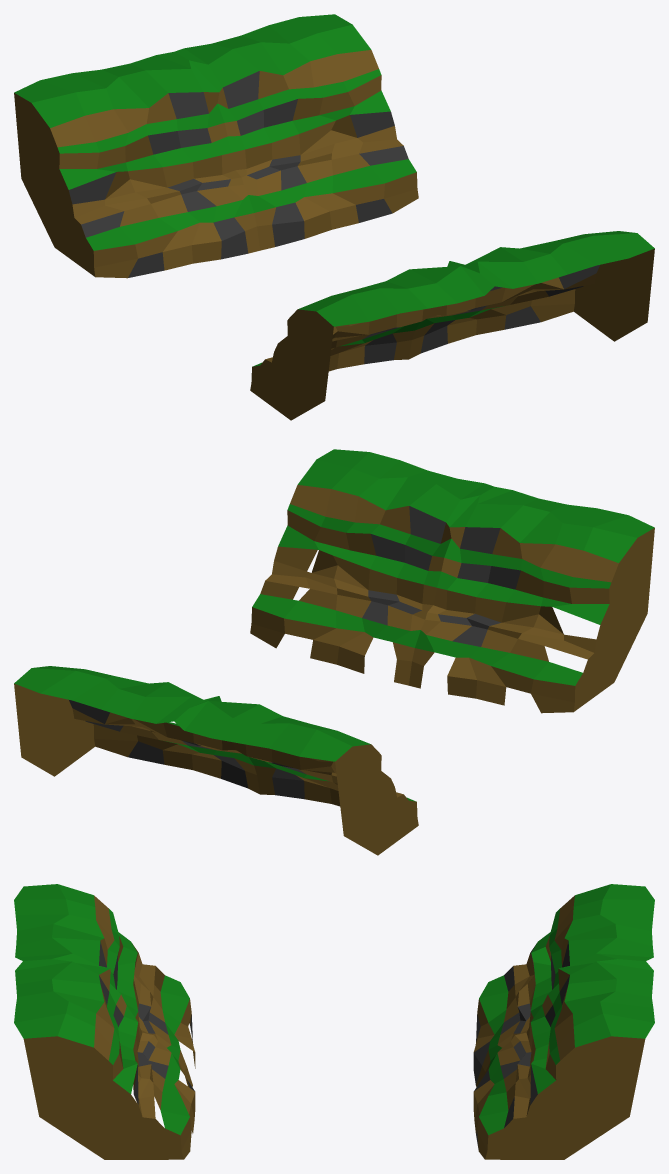
The model's file is side-4.fbx.
3 renders of one model, top to bottom at view 1: azimuth 30°, elevation 25°; view 2: azimuth 150°, elevation 25°; view 3: azimuth 270°, elevation 25°, orthographic. The views are drawn at different scales.
Parts seen in each view (by area): view 1: greenravine5.009; view 2: greenravine5.009; view 3: greenravine5.009.
Boxes of the visible parts, x1,y1,x2,y2 form: greenravine5.009: [14, 14, 654, 420]; greenravine5.009: [14, 449, 654, 855]; greenravine5.009: [14, 884, 654, 1159].
Bounding box in the file's own units: 1316 × 548 × 2323.
